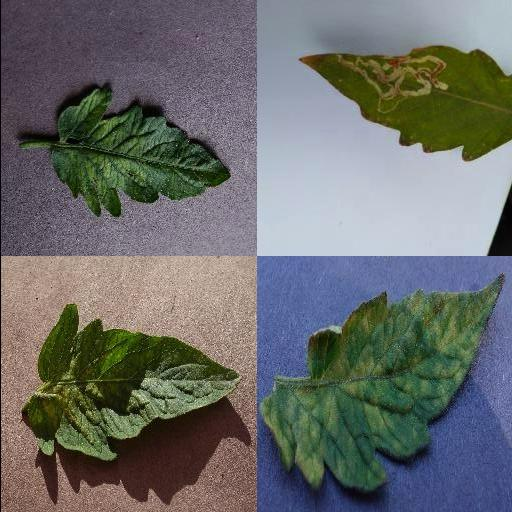Leaf Miner: (296, 43, 512, 160)
Leaf Mold: (256, 275, 506, 494)
Mosaic Virus: (48, 85, 232, 218)
Spider Mites: (20, 303, 242, 463)
